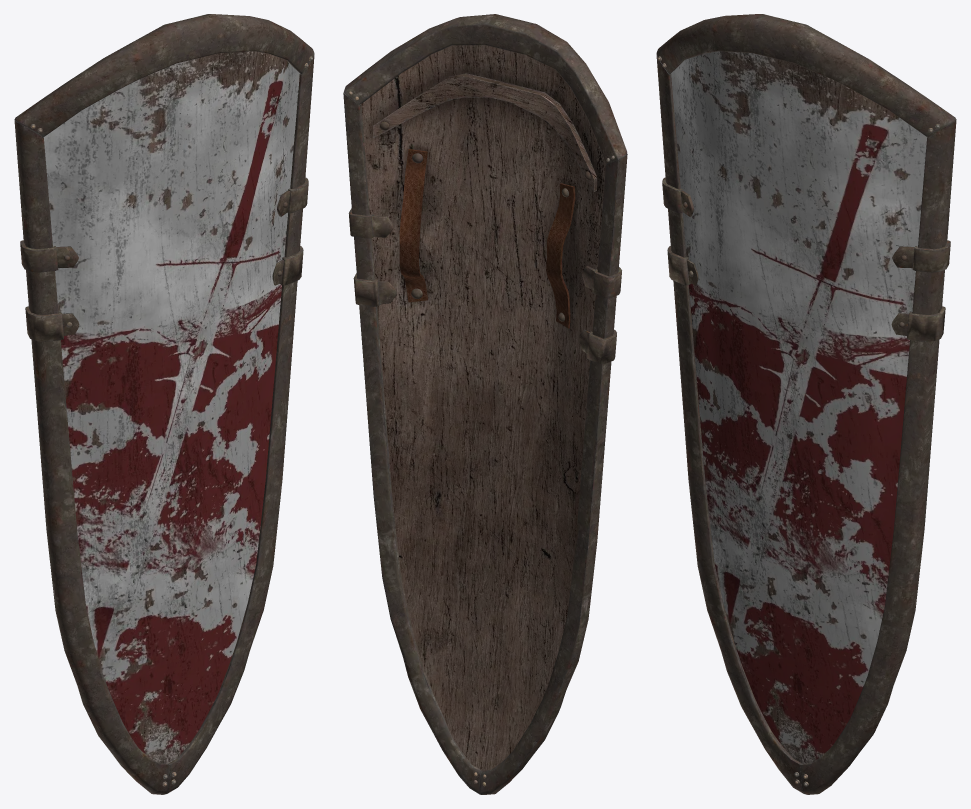
The model's file is kite_shield.glb.
The picture shows the model from 3 angles, left to right: view 1: azimuth 30°, elevation 25°; view 2: azimuth 150°, elevation 25°; view 3: azimuth 330°, elevation 25°; orthographic projection. The views are drawn at different scales.
Visible parts, largest first — view 1: kite_shield_body, kite_shield_metal_trim; view 2: kite_shield_body, kite_shield_metal_trim; view 3: kite_shield_body, kite_shield_metal_trim.
Boxes of the visible parts, <box> form: kite_shield_body: <box>43,51,299,764</box>; kite_shield_metal_trim: <box>14,14,314,794</box>; kite_shield_body: <box>361,45,606,770</box>; kite_shield_metal_trim: <box>343,14,627,794</box>; kite_shield_body: <box>671,51,927,763</box>; kite_shield_metal_trim: <box>656,14,956,794</box>.
Size of the model in its own units: 0.5433 by 1.39 by 0.1348.
Materials: 2 (2 with a texture image).
